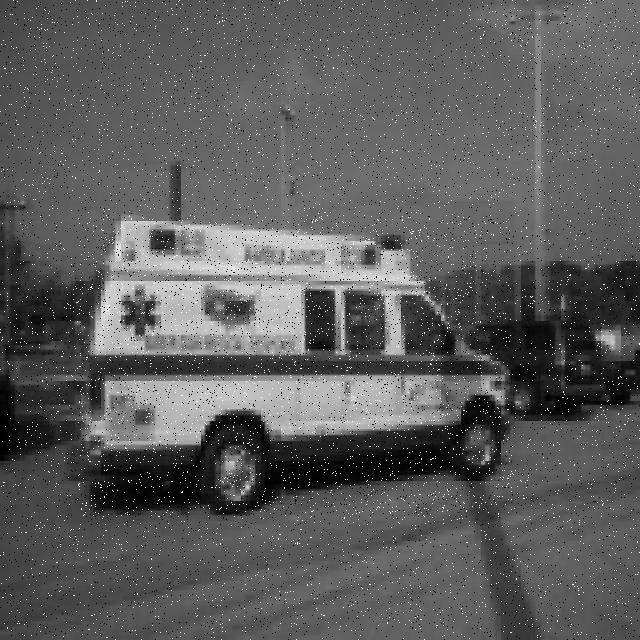Ambulance: (78, 217, 510, 517)
